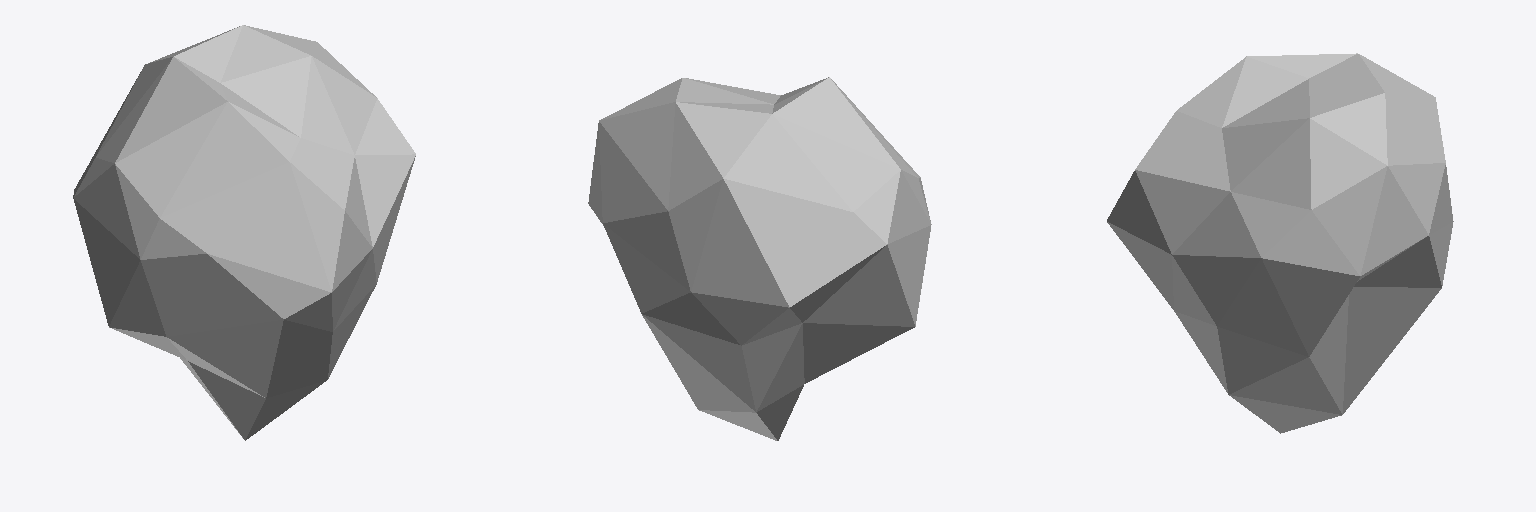
Rendered from smallRock.obj.
3 views of the same model, side by side, from view 1: azimuth 30°, elevation 25°; view 2: azimuth 150°, elevation 25°; view 3: azimuth 270°, elevation 25° (orthographic).
Parts seen in each view (by area): view 1: Icosphere.006; view 2: Icosphere.006; view 3: Icosphere.006.
Boxes of the visible parts, <box> form: Icosphere.006: <box>73,25,415,440</box>; Icosphere.006: <box>588,77,931,440</box>; Icosphere.006: <box>1107,53,1453,433</box>.
Bounding box in the file's own units: 139 × 161 × 138.